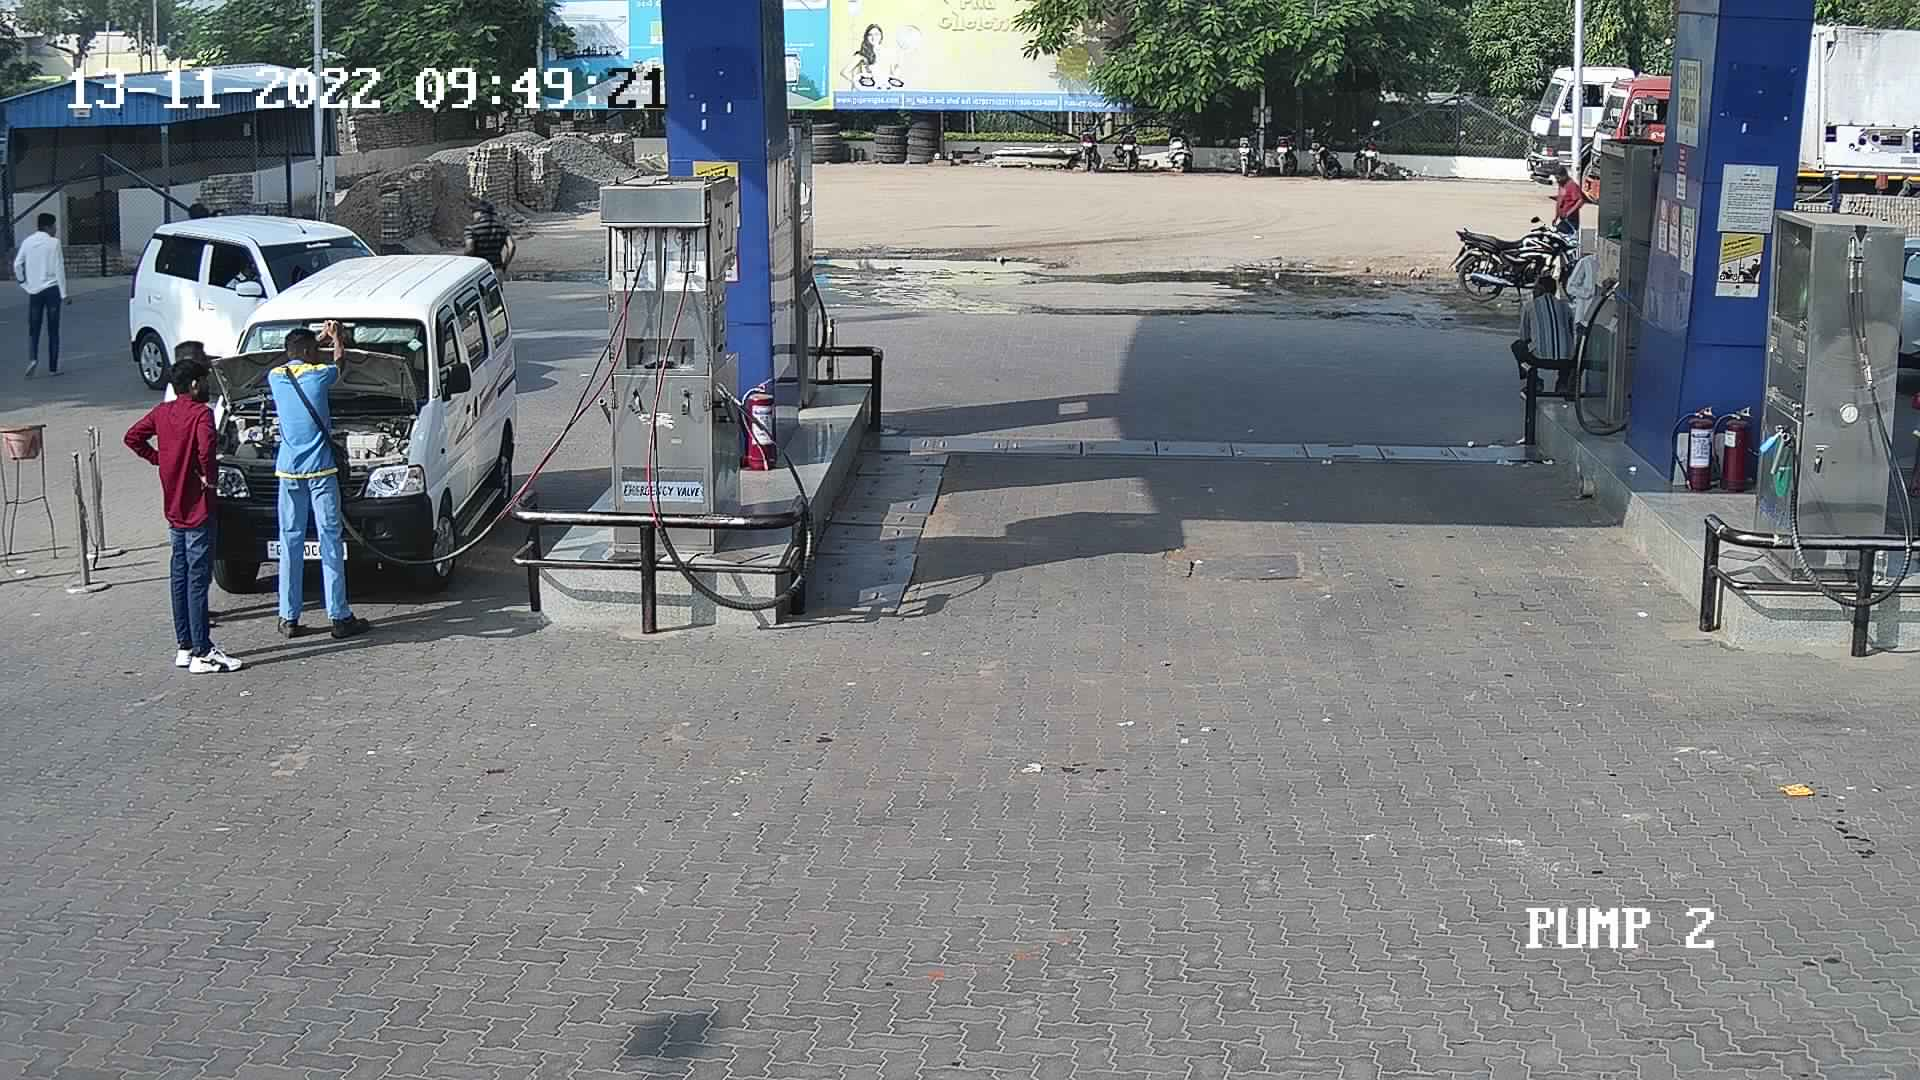Bike: (1449, 206, 1600, 313), (1345, 109, 1390, 179), (1156, 104, 1203, 166), (1304, 113, 1346, 177), (1068, 107, 1109, 171), (1224, 116, 1266, 177), (1265, 113, 1300, 179), (1112, 111, 1150, 170)
Car: (202, 251, 530, 595), (115, 198, 394, 401), (1869, 219, 1917, 393)
HMV: (1509, 34, 1679, 215), (1568, 55, 1679, 219)
Others: (261, 320, 375, 638)
